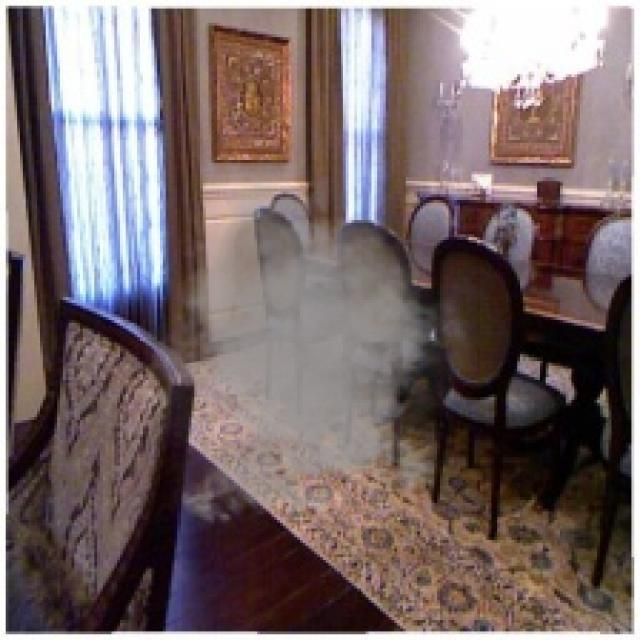Smoke: (128, 177, 486, 534)
